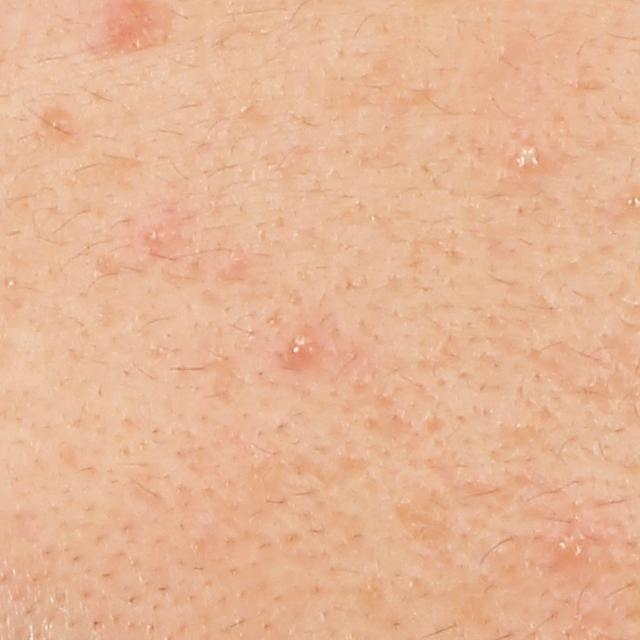pustule: (509, 135, 551, 173)
